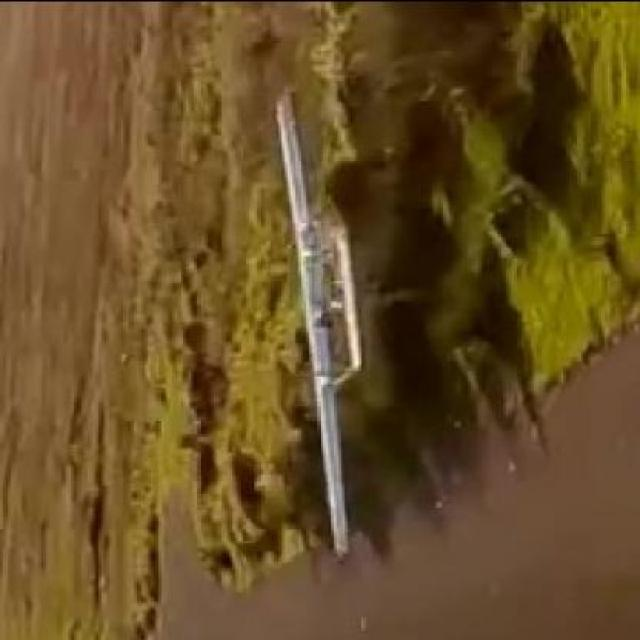iha: (293, 77, 338, 570)
